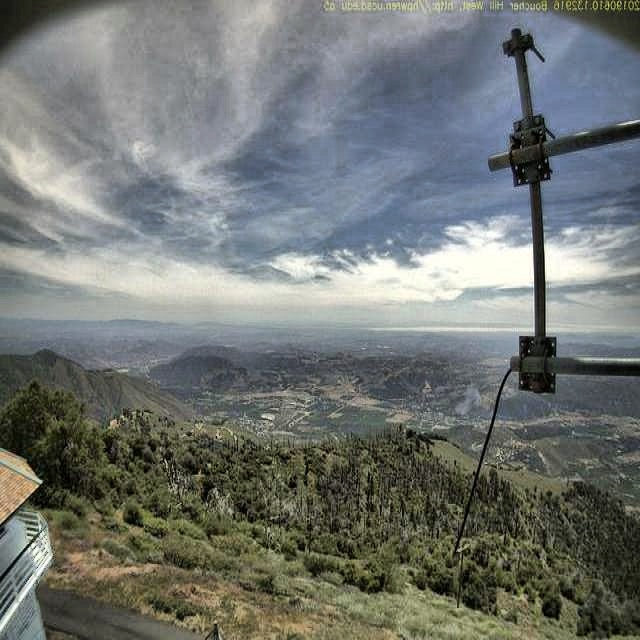smoke: (452, 383, 502, 420)
